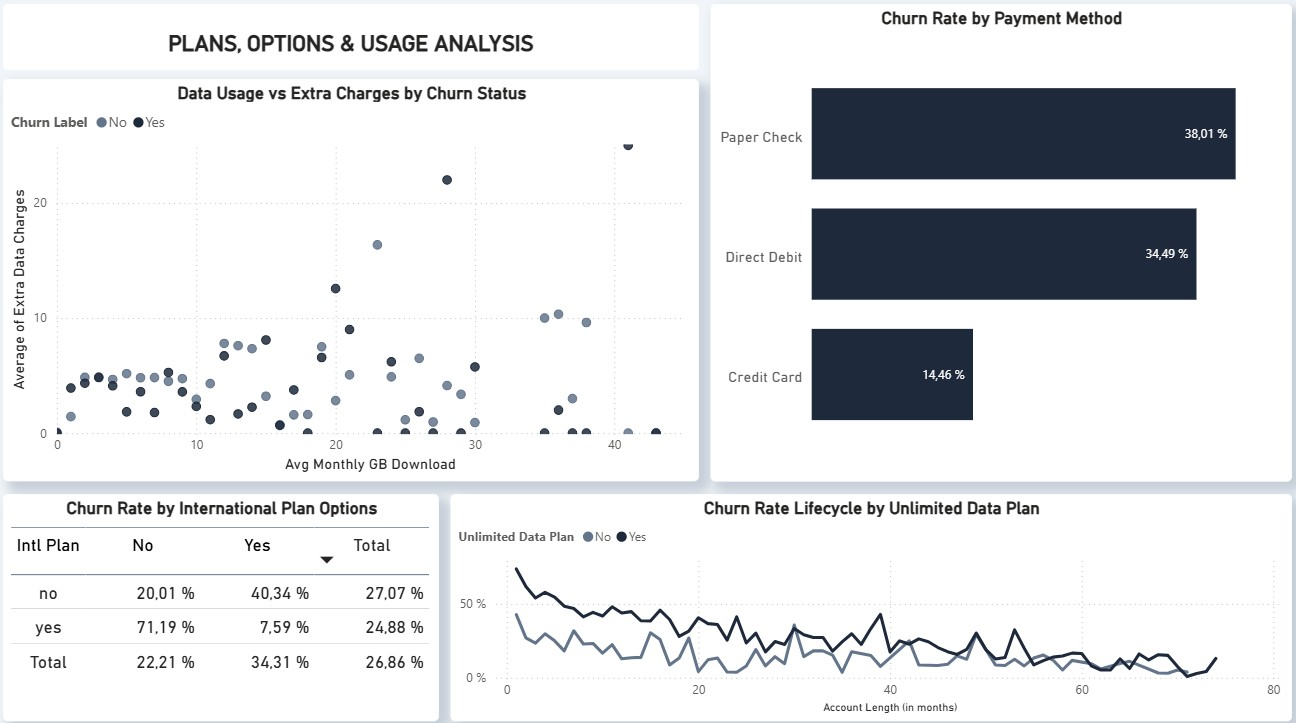

Layout of this report page (visuals, bound fields, positions):
{"tool":"powerbi","page":{"name":"Plans & Usage","canvas":[1280,720],"ordinal":3},"visuals":[{"type":"scatterChart","title":"Data Usage vs Extra Charges by Churn Status","fields":{"X":["Fact_Subscriptions.Avg Monthly GB Download"],"Y":["Avg(Fact_Subscriptions.Extra Data Charges)"],"Series":["Dim_Churn.Churn Label"]},"box":[9.8,83.2,681.1,393.8],"z":0},{"type":"pivotTable","title":"Churn Rate by International Plan Options","fields":{"Rows":["Dim_Contract.Intl Plan"],"Columns":["Fact_Subscriptions.Intl Active"],"Values":["_Measures.Churn Rate"]},"box":[9.8,489.1,426.8,222.6],"z":1000},{"type":"barChart","title":"Churn Rate by Payment Method","fields":{"Category":["Dim_Contract.Payment Method"],"Y":["_Measures.Churn Rate"]},"box":[701.9,9.8,568.6,467.1],"z":2000},{"type":"lineChart","title":"Churn Rate Lifecycle by Unlimited Data Plan","fields":{"Y":["_Measures.Churn Rate"],"Category":["Fact_Subscriptions.Account Length (in months)"],"Series":["Dim_Contract.Unlimited Data Plan"]},"box":[447.6,489.1,823,222.6],"z":3000},{"type":"textbox","box":[9.8,9.8,681.1,64.8],"z":4000}]}

Visuals, with their boxes in screenshot pixels (x1, y1, x2, y2), scaled from the page's 1280x720 canvas onto the 1296x723 screenshot:
"Data Usage vs Extra Charges by Churn Status" scatterChart: box=[10, 84, 700, 479]
"Churn Rate by International Plan Options" pivotTable: box=[10, 491, 442, 715]
"Churn Rate by Payment Method" barChart: box=[711, 10, 1286, 479]
"Churn Rate Lifecycle by Unlimited Data Plan" lineChart: box=[453, 491, 1286, 715]
textbox: box=[10, 10, 700, 75]
